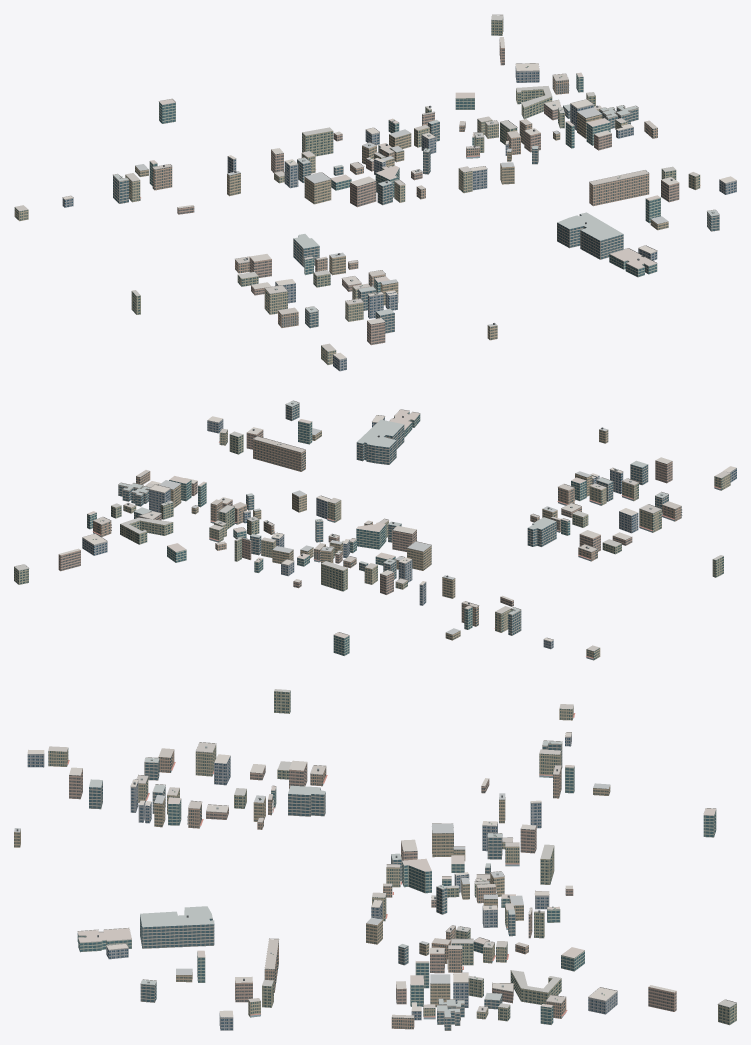
3 views of the same model, one above another, from view 1: azimuth 30°, elevation 25°; view 2: azimuth 150°, elevation 25°; view 3: azimuth 270°, elevation 25° (orthographic). The views are drawn at different scales.
Parts seen in each view (by area): view 1: Station 0 surrounding real OSM building footprints; view 2: Station 0 surrounding real OSM building footprints; view 3: Station 0 surrounding real OSM building footprints.
Part boxes in pixels (x1,y1,x2,y2): Station 0 surrounding real OSM building footprints: [14, 14, 736, 371]; Station 0 surrounding real OSM building footprints: [14, 400, 736, 660]; Station 0 surrounding real OSM building footprints: [14, 689, 736, 1030].
Size of the model in its own units: 684 by 27.25 by 652.
25 materials, 8 textured.
